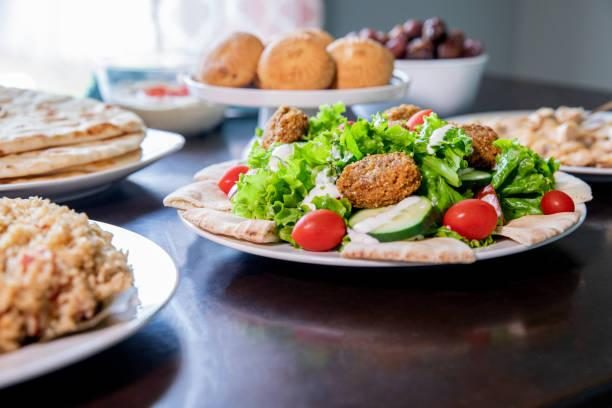Braised Crucian Carp: (172, 105, 590, 268), (189, 38, 411, 110), (561, 157, 609, 177)
